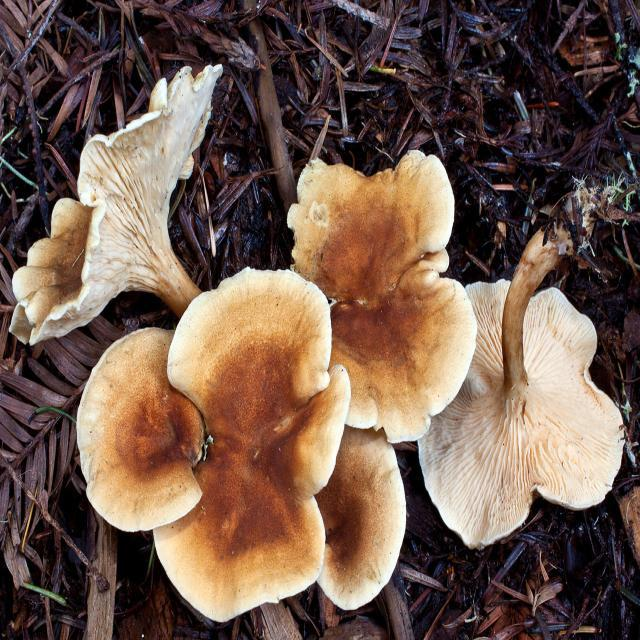Clitocybe maxima: (72, 269, 407, 615), (421, 229, 622, 549), (16, 62, 235, 338), (291, 150, 477, 445)
